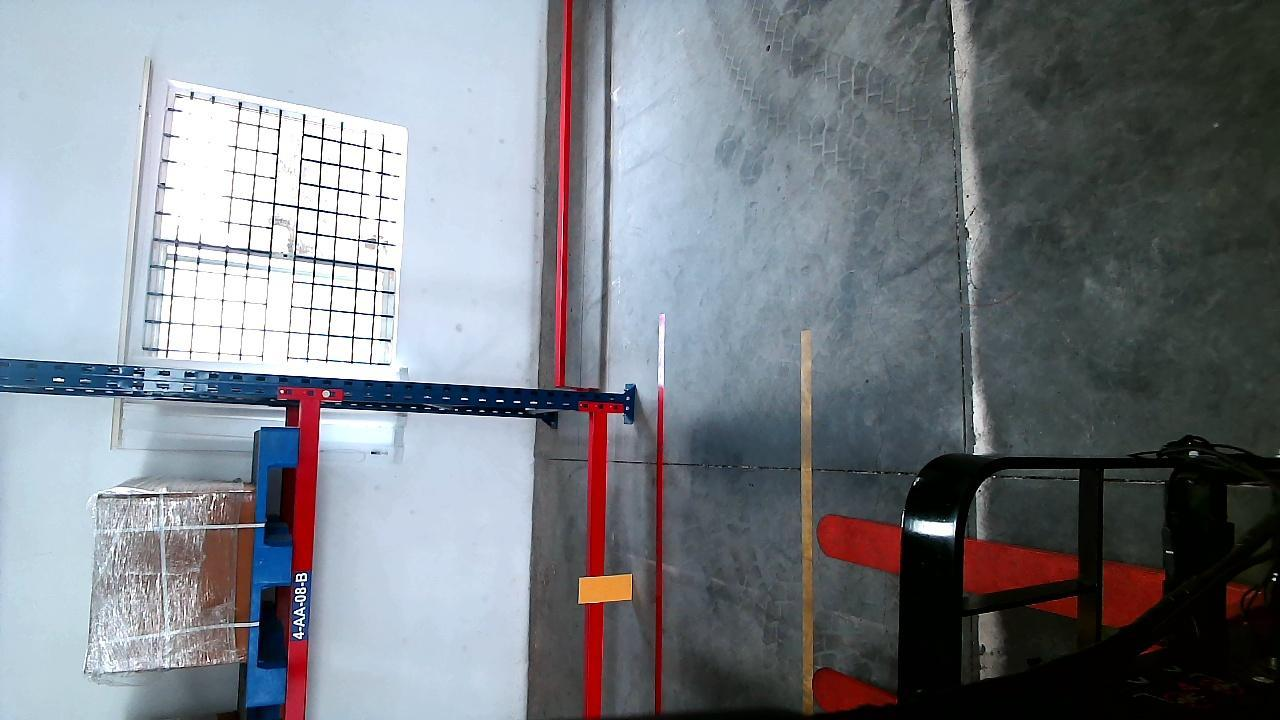red_line: (653, 316, 664, 713)
yellow_line: (798, 344, 819, 688)
